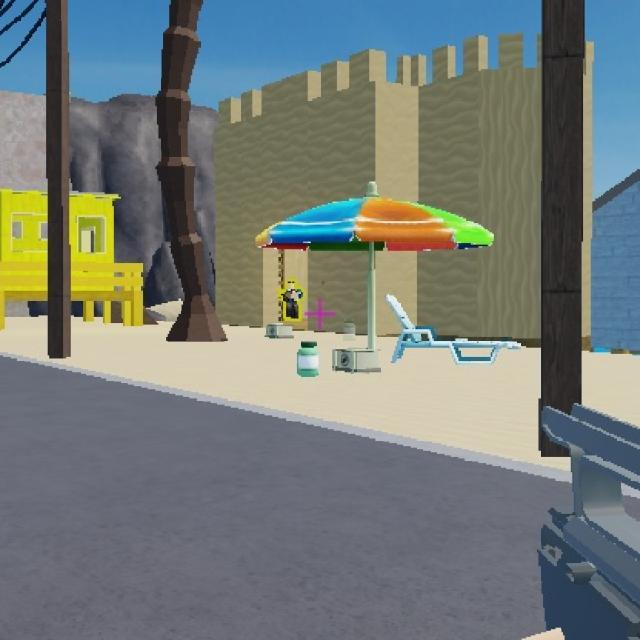player: (278, 277, 304, 328)
